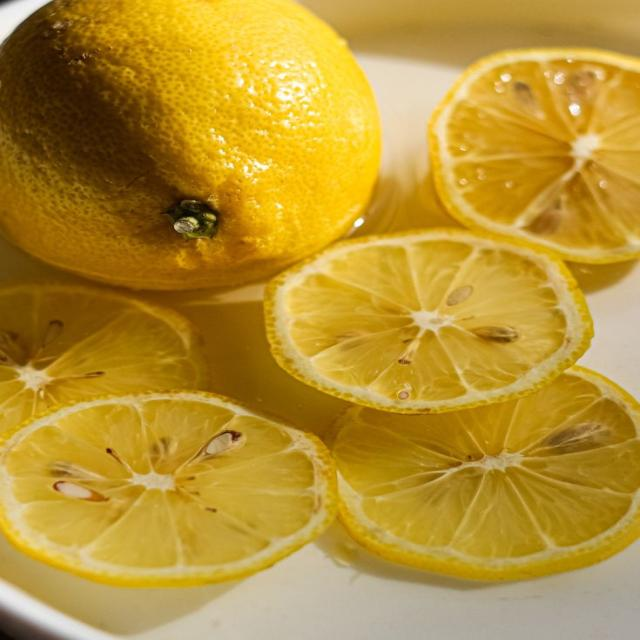lemon: (0, 0, 380, 289), (0, 392, 336, 586), (333, 368, 639, 579), (266, 229, 592, 412), (430, 49, 639, 262), (0, 284, 206, 431)
